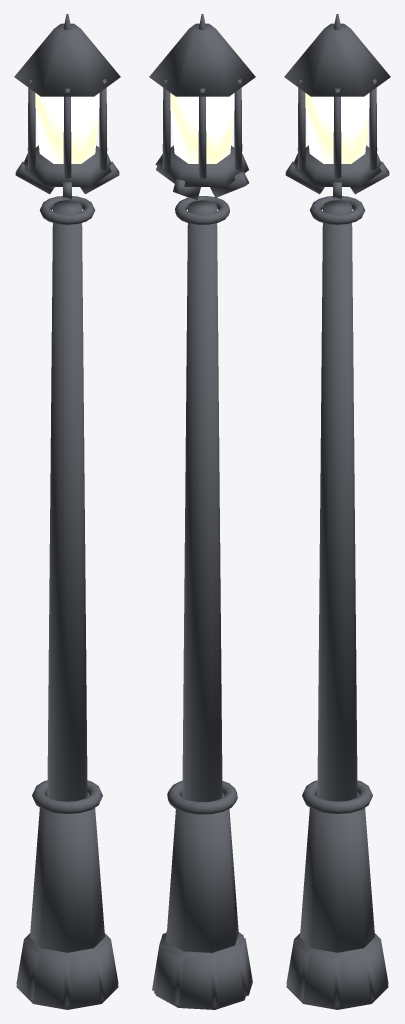
The model's file is streetlamp.glb.
The picture shows the model from 3 angles, left to right: view 1: azimuth 90°, elevation 25°; view 2: azimuth 150°, elevation 25°; view 3: azimuth 270°, elevation 25°; orthographic projection.
Visible parts, largest first — view 1: Post, Bulb; view 2: Post, Bulb; view 3: Post, Bulb.
Part boxes in pixels (left/top/right/bottom): Post: left=14, top=14, right=120, bottom=1009; Bulb: left=35, top=93, right=99, bottom=163; Post: left=149, top=14, right=255, bottom=1009; Bulb: left=170, top=93, right=234, bottom=163; Post: left=284, top=14, right=390, bottom=1009; Bulb: left=305, top=93, right=369, bottom=163.
Size of the model in its own units: 0.4648 by 4.83 by 0.48.
